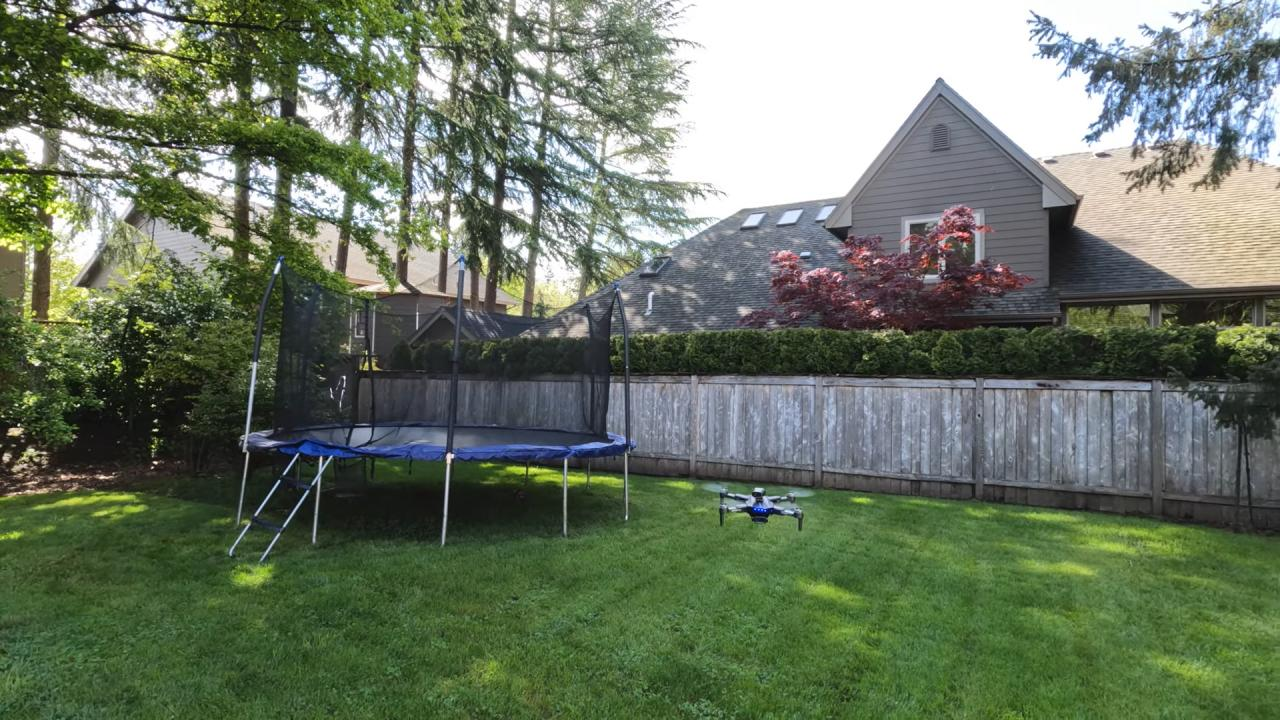Drone: (703, 477, 817, 539)
